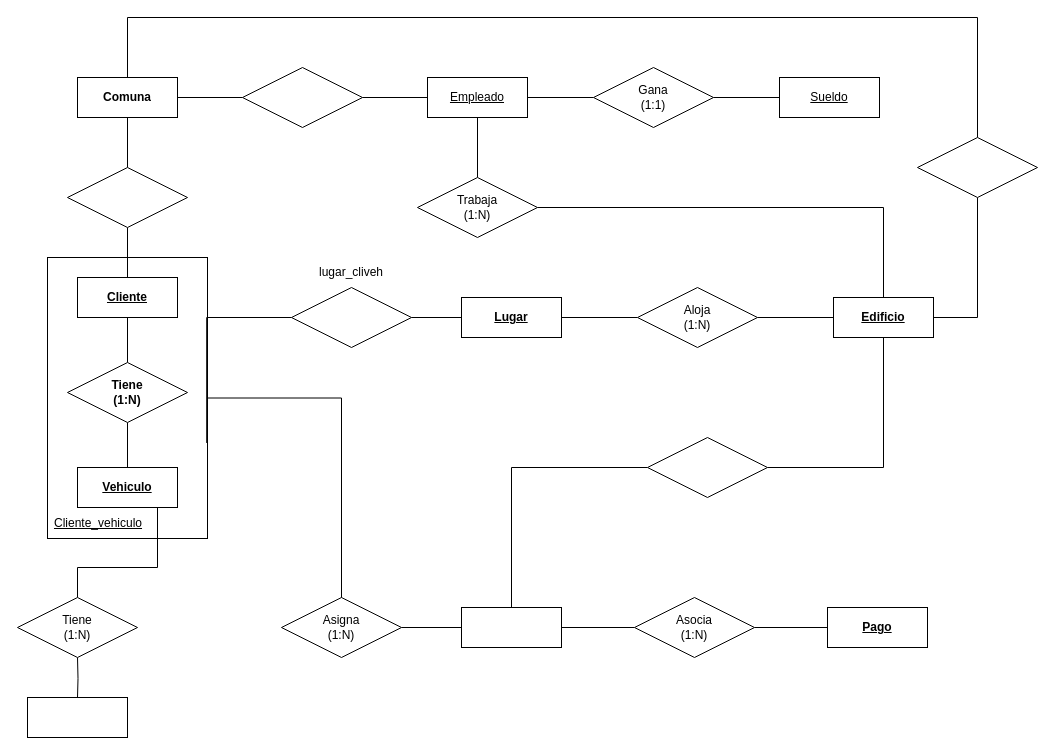
This 1055x755 diagram has some shape labels left out. The centre of each missing label's shape, as x and y in pixels:
(1:N): pixel 707 467
Contrato: pixel 511 627
Estaciona (N:N): pixel 351 317
Modelo: pixel 77 717
Reside (1:N): pixel 302 97
Se ubica (1:N): pixel 977 167
Vive (1:N): pixel 127 197
